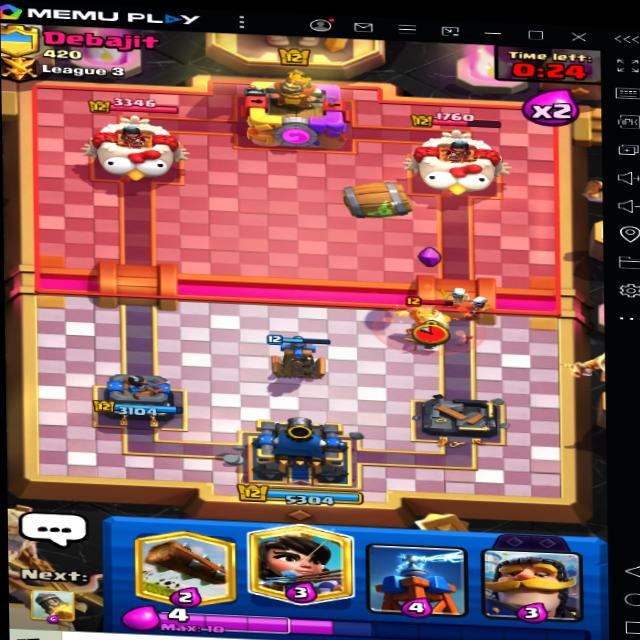knight: (381, 292, 462, 343)
